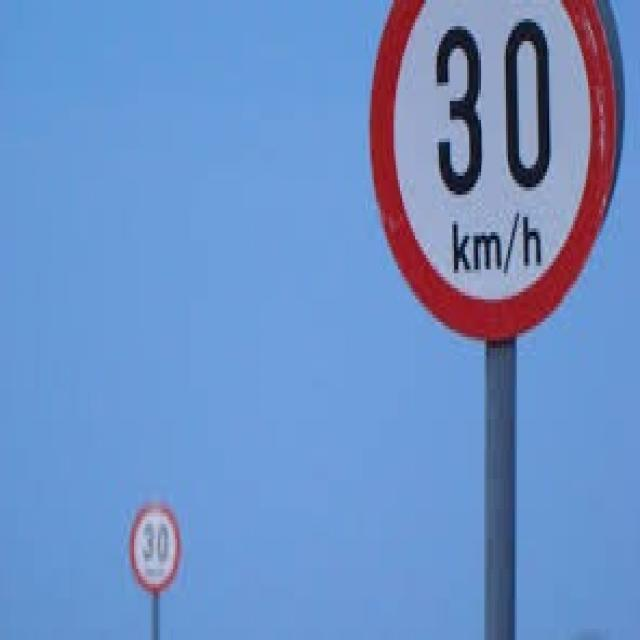speed_limit_30: (364, 0, 619, 342), (125, 498, 185, 598)
